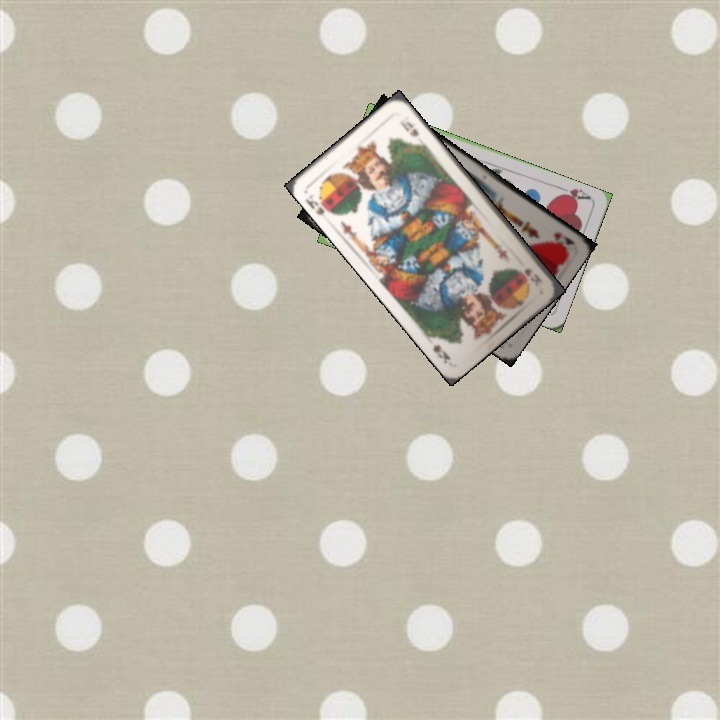HA: (554, 182, 594, 205)
HK: (549, 228, 577, 251)
SK: (302, 194, 327, 218), (520, 264, 545, 286)
